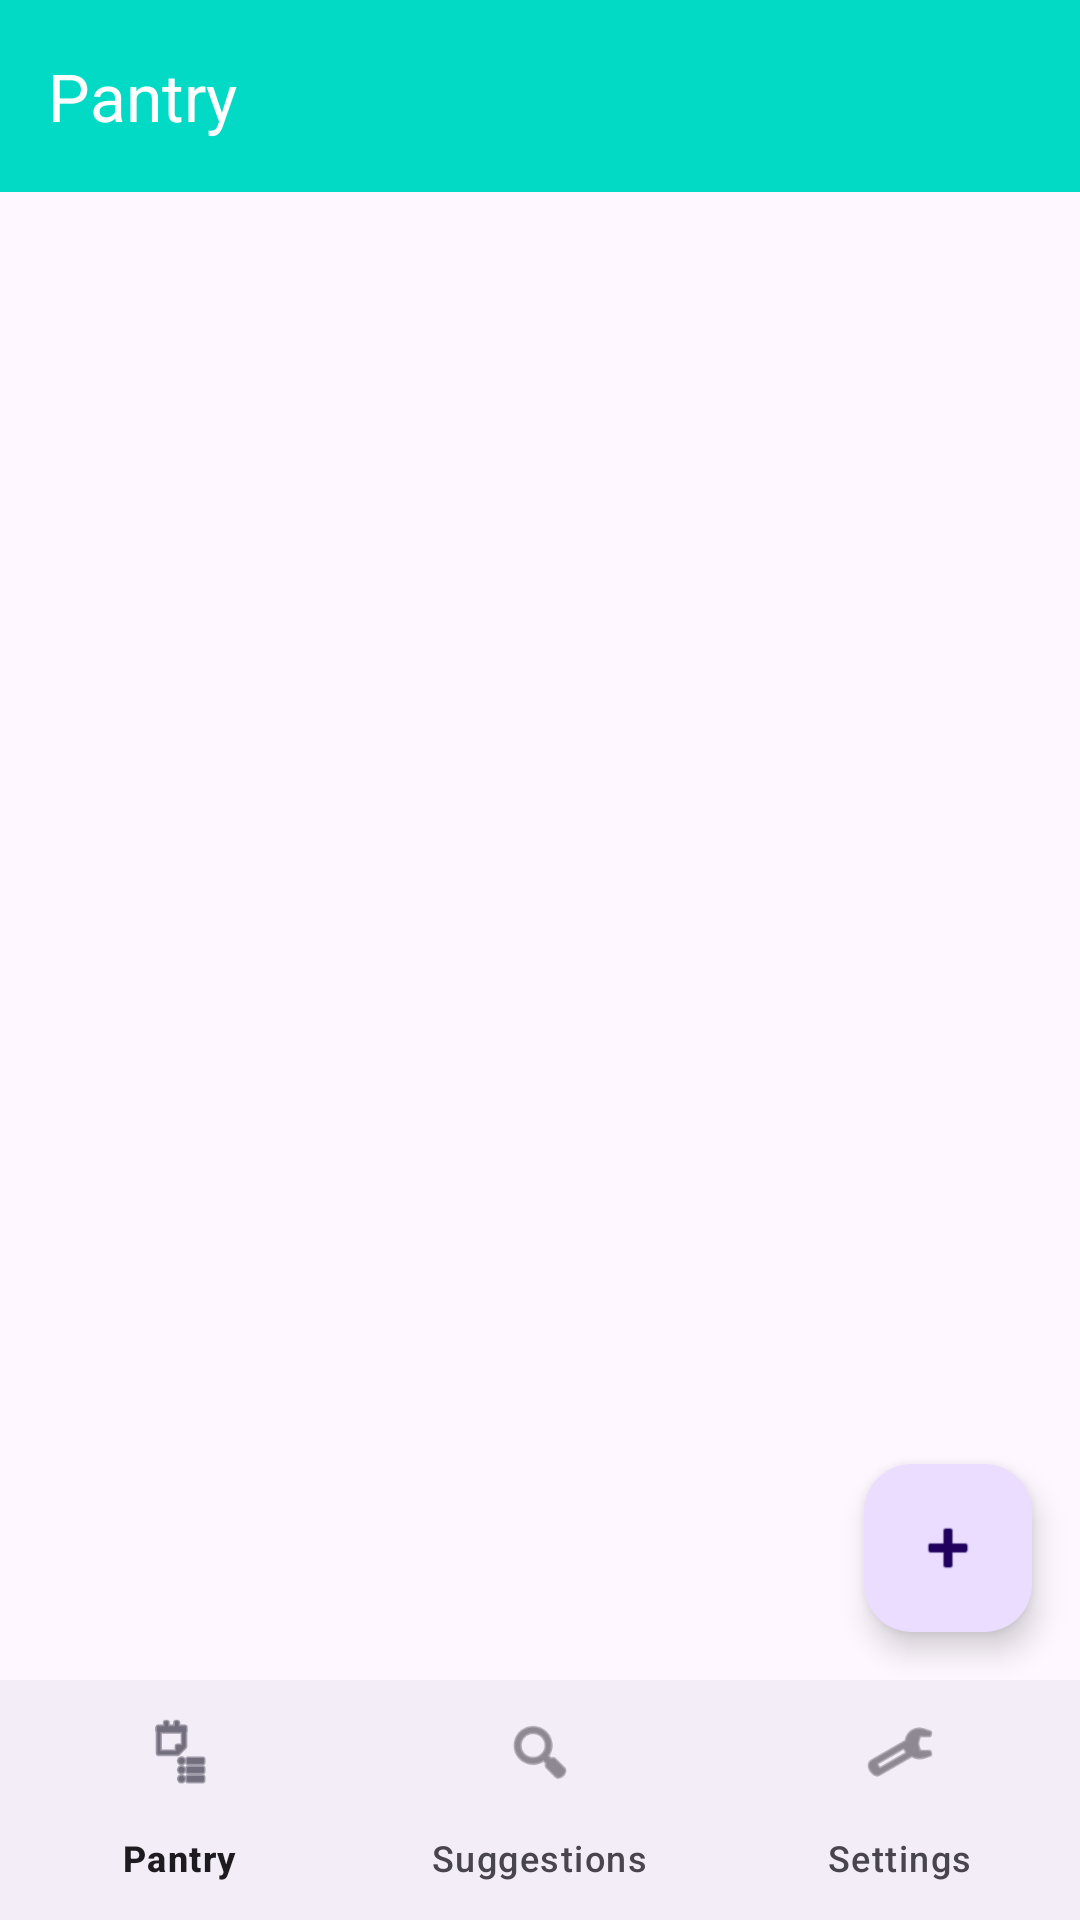

Point at icon controls on the screen. Image size 1080x1920, points as (x,y).
Add ingredient: (948,1548)
